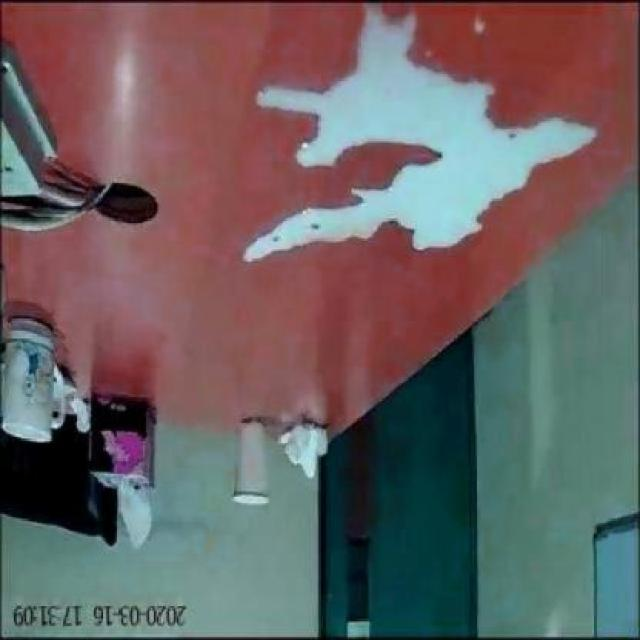spillage: (243, 3, 597, 261)
